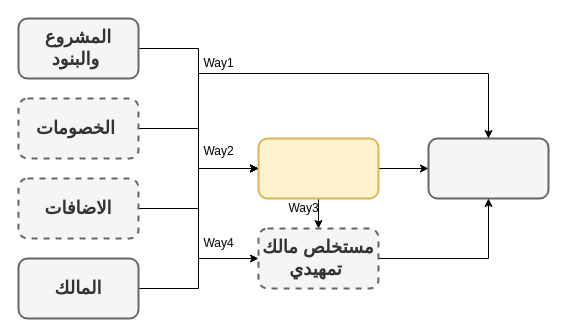
The diagram is 566 pixels wide and 336 high, and some of its shapes have lost their labels. The shapes that lost their labels are listed below. From the top down, each one's centre as x and y in pixels, then its label:
the point at 318,168: تسعير مشروع
the point at 488,168: مستخلص مالك
